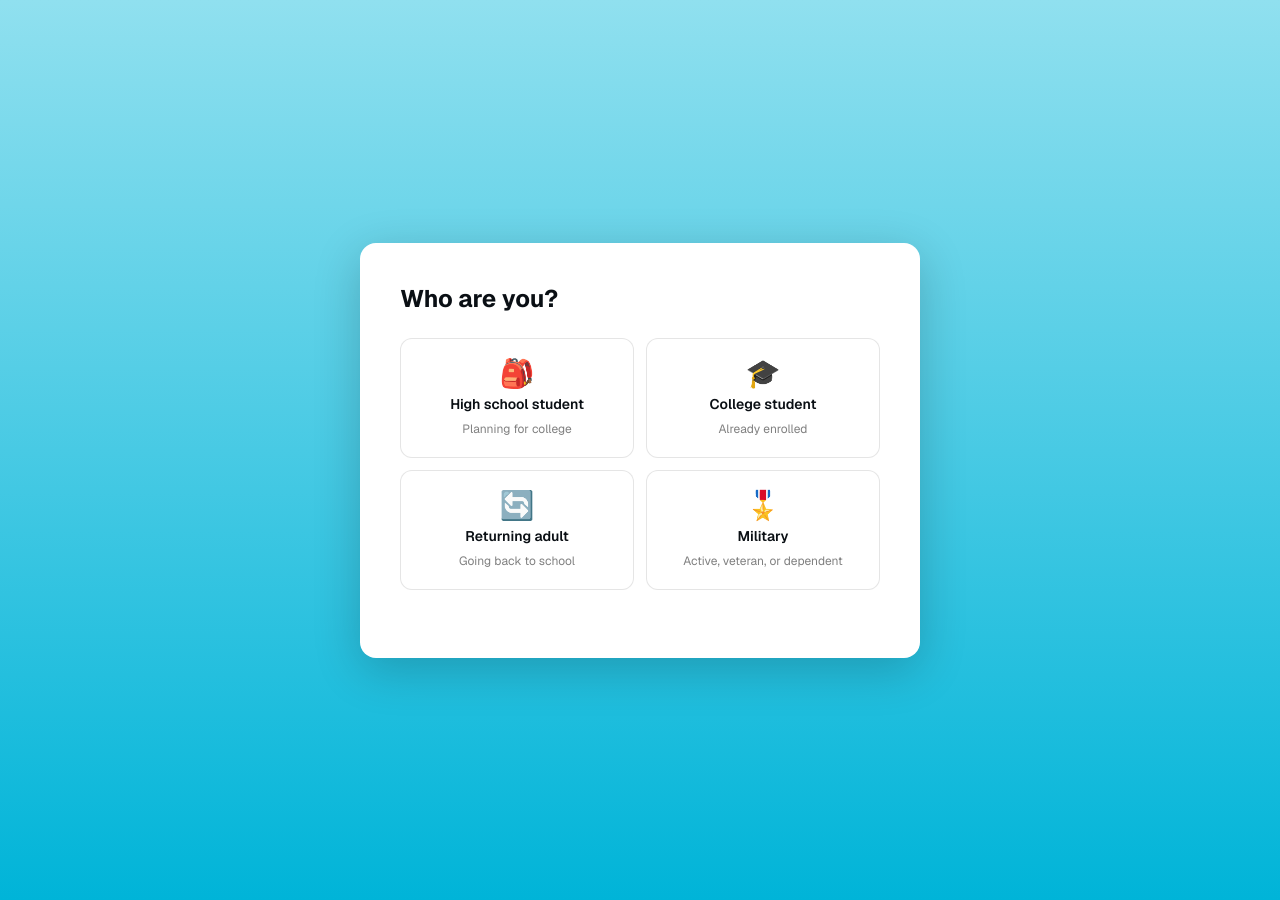
Test: Profile page › shows form fields after selecting a profile type
This screenshot has width=1280, height=900.
Click the text "High school student" at [517, 404], box [450,394,584,412]
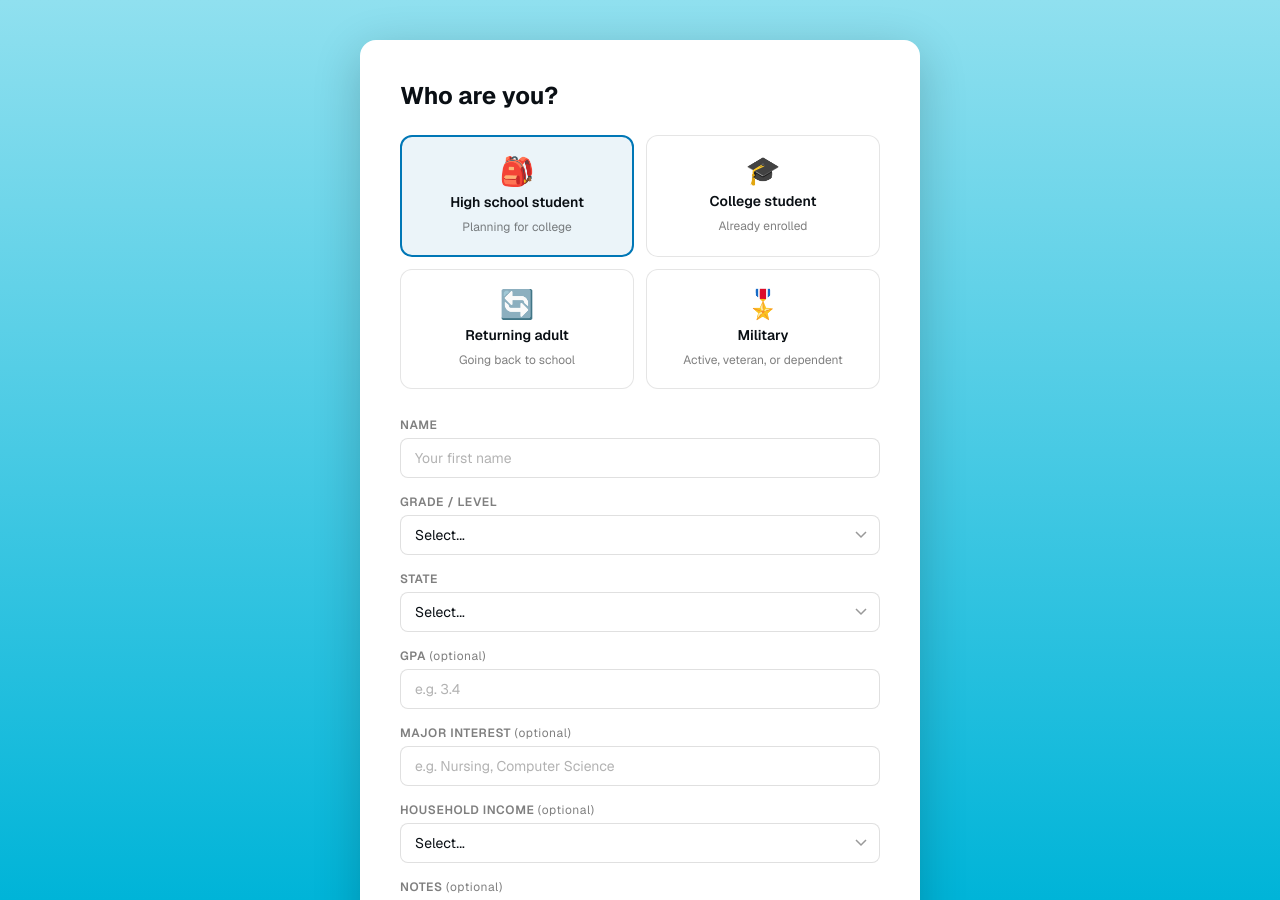
Result: the field with placeholder "Your first name" is shown at [400,438,880,478]
